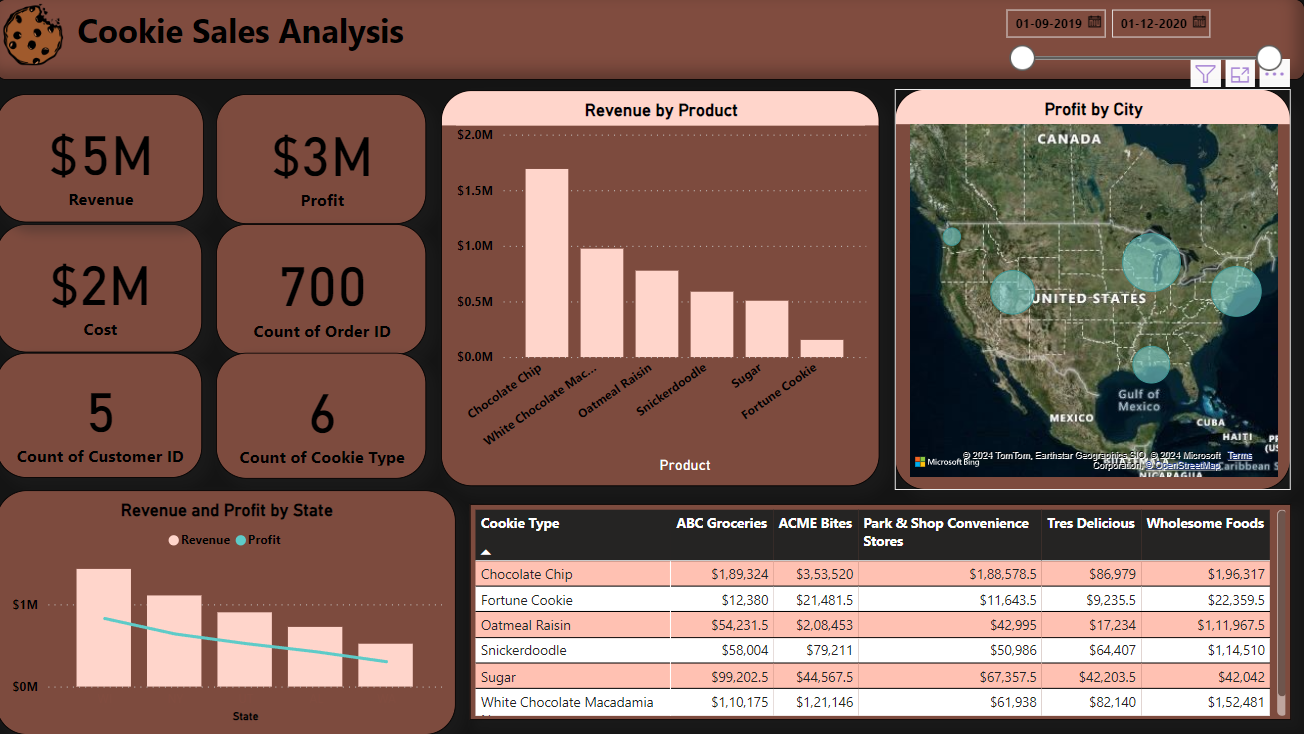

This screenshot's page, from the dashboard's own definition file:
{"tool":"powerbi","page":{"name":"Cookie Sales Analysis","canvas":[1280,720],"ordinal":0},"visuals":[{"type":"textbox","box":[0,0,1279.9,79.5],"z":0},{"type":"card","fields":{"Values":["Orders.Cost"]},"box":[0,220,201.7,125.9],"z":1000},{"type":"card","fields":{"Values":["Orders.Profit"]},"box":[215.1,92.9,205.4,127.1],"z":2000},{"type":"card","fields":{"Values":["Orders.Revenue"]},"box":[0,92.9,202.9,125.9],"z":3000},{"type":"card","fields":{"Values":["Orders.Order ID"]},"box":[215.1,220,205.4,128.4],"z":4000},{"type":"card","fields":{"Values":["Customers.Customer ID"]},"box":[0,345.9,201.7,122.2],"z":5000},{"type":"card","fields":{"Values":["Cookie Types.Cookie Type"]},"box":[215.1,345.9,205.4,123.5],"z":6000},{"type":"lineStackedColumnComboChart","title":"Revenue and Profit by State ","fields":{"Category":["Customers.State"],"Y":["Orders.Revenue"],"Y2":["Orders.Profit"]},"box":[0,480.4,449.8,239.6],"z":7000},{"type":"clusteredColumnChart","title":"Revenue by Product","fields":{"Y":["Orders.Revenue"],"Category":["Orders.Product"]},"box":[435.2,89.2,429.1,387.5],"z":8000},{"type":"map","title":"Profit by City","fields":{"Category":["Customers.City"],"Size":["Orders.Profit"]},"box":[878.9,88,387.5,392.4],"z":9000},{"type":"pivotTable","fields":{"Rows":["Cookie Types.Cookie Type"],"Columns":["Customers.Name"],"Values":["Orders.Profit"]},"box":[463.3,493.9,803.1,211.5],"z":10000},{"type":"slicer","fields":{"Values":["Orders.Date"]},"box":[975.5,0,290.9,78.2],"z":11000},{"type":"image","box":[0,0,72.1,69.7],"z":11001}]}

Visuals, with their boxes in screenshot pixels (x1, y1, x2, y2), scaled from the page's 1280x720 canvas onto the 1304x734 screenshot:
textbox: {"left": 0, "top": 0, "right": 1303, "bottom": 81}
card - Orders.Cost: {"left": 0, "top": 224, "right": 205, "bottom": 353}
card - Orders.Profit: {"left": 219, "top": 95, "right": 428, "bottom": 224}
card - Orders.Revenue: {"left": 0, "top": 95, "right": 207, "bottom": 223}
card - Orders.Order ID: {"left": 219, "top": 224, "right": 428, "bottom": 355}
card - Customers.Customer ID: {"left": 0, "top": 353, "right": 205, "bottom": 477}
card - Cookie Types.Cookie Type: {"left": 219, "top": 353, "right": 428, "bottom": 479}
"Revenue and Profit by State " lineStackedColumnComboChart: {"left": 0, "top": 490, "right": 458, "bottom": 733}
"Revenue by Product" clusteredColumnChart: {"left": 443, "top": 91, "right": 881, "bottom": 486}
"Profit by City" map: {"left": 895, "top": 90, "right": 1290, "bottom": 490}
pivotTable - Cookie Types.Cookie Type x Customers.Name: {"left": 472, "top": 504, "right": 1290, "bottom": 719}
slicer - Orders.Date: {"left": 994, "top": 0, "right": 1290, "bottom": 80}
image: {"left": 0, "top": 0, "right": 73, "bottom": 71}
